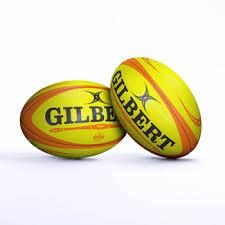ballon_rugby: (109, 55, 203, 162), (17, 78, 129, 160)
